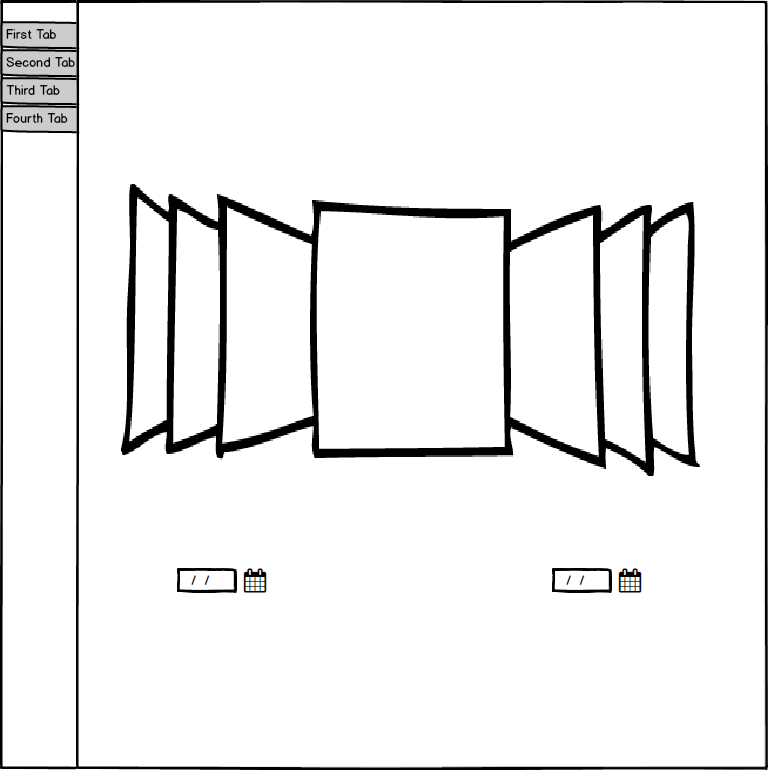date_picker: (539, 557, 653, 603), (171, 559, 271, 602)
sidebar: (2, 16, 85, 140)
slideshow: (116, 180, 707, 483)
